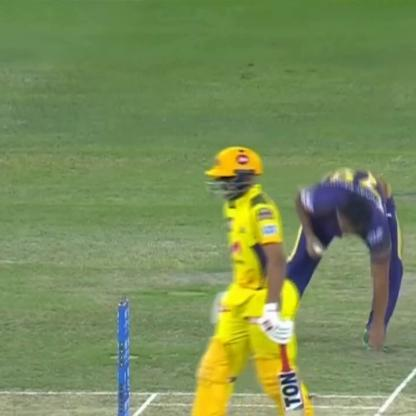ball: (308, 237, 326, 259)
